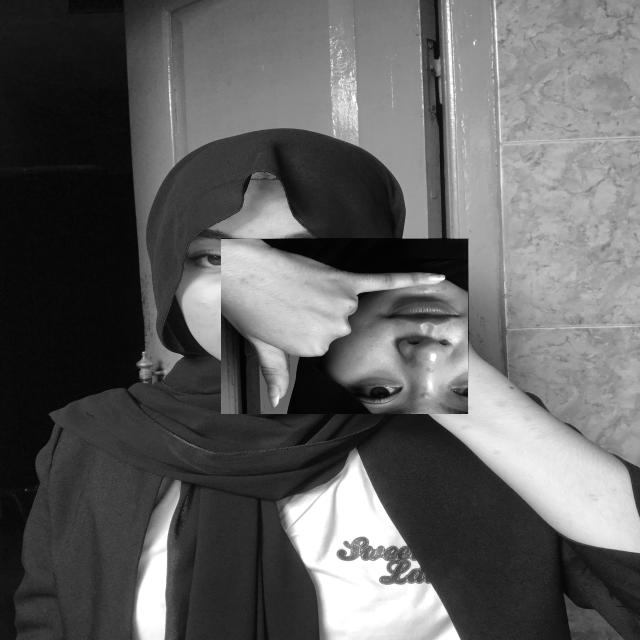telpon: (221, 238, 469, 414)
